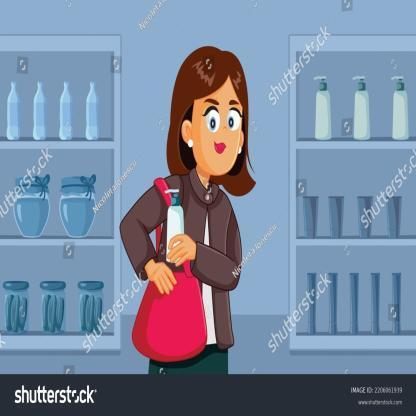Shoplifting: (129, 168, 268, 377)
